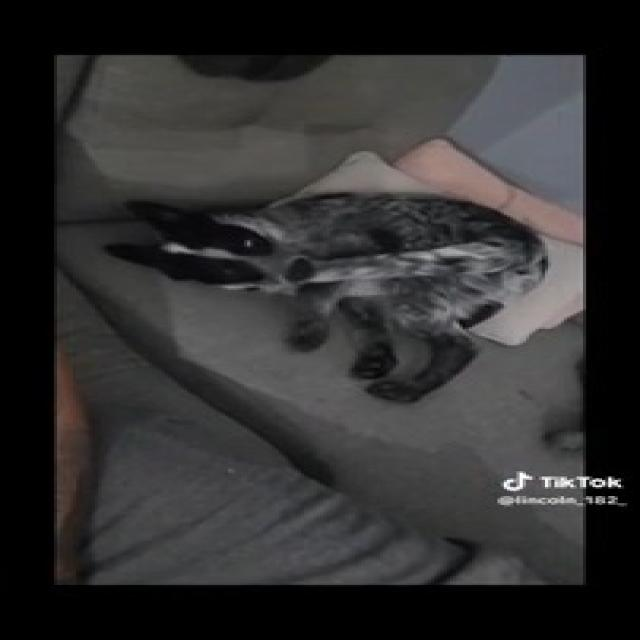dogs: (105, 176, 555, 402)
